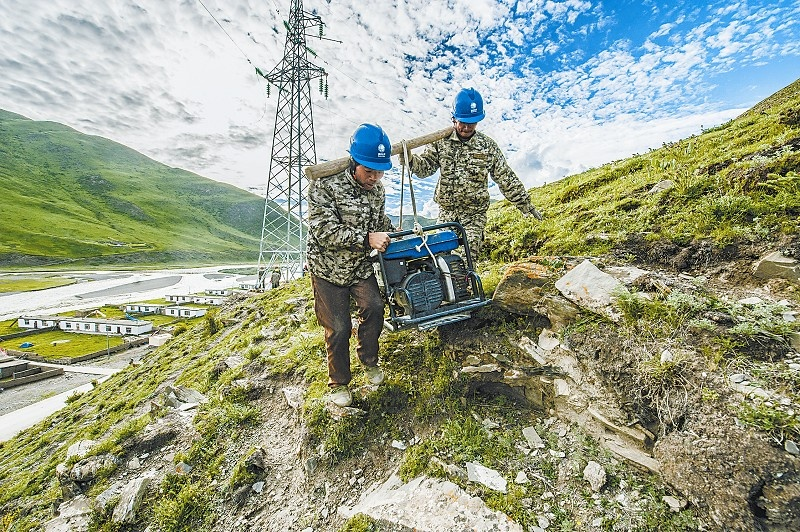blue: (343, 122, 393, 189), (448, 84, 484, 139)
